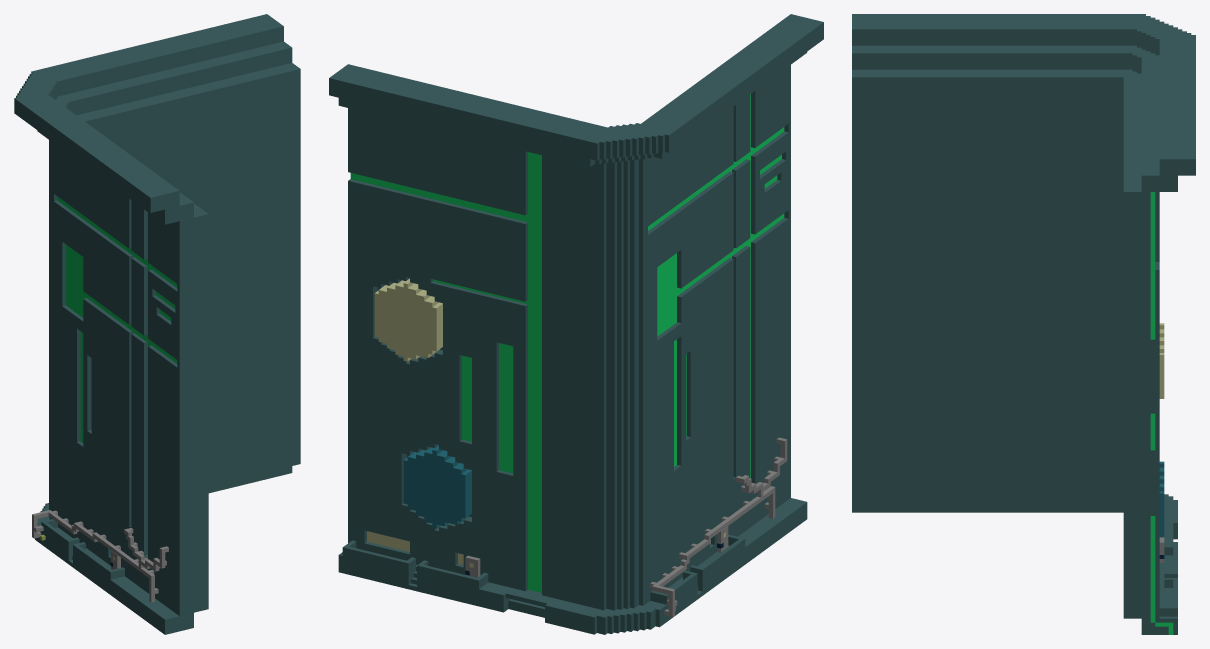
File: base_wall_corner_2.obj
3 renders of one model, left to right at view 1: azimuth 30°, elevation 25°; view 2: azimuth 150°, elevation 25°; view 3: azimuth 270°, elevation 25°, orthographic. The views are drawn at different scales.
Parts seen in each view (by area): view 1: base_wall_corner_2; view 2: base_wall_corner_2; view 3: base_wall_corner_2.
Part boxes in pixels (<box>): base_wall_corner_2: <box>14,14,300,634</box>; base_wall_corner_2: <box>329,14,823,634</box>; base_wall_corner_2: <box>852,14,1195,634</box>.
Bounding box in the file's own units: 76 × 116 × 76.
Materials: 1 (1 with a texture image).
